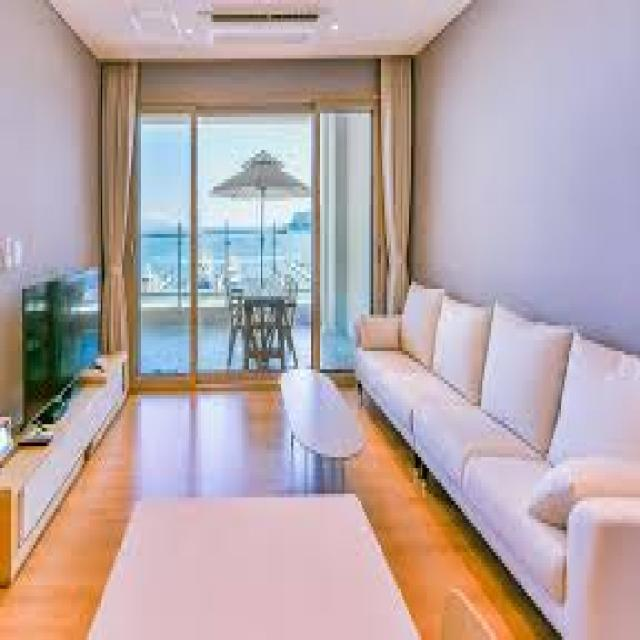Sofa: (351, 276, 639, 640)
Table: (277, 366, 370, 490)
tv: (20, 260, 104, 418)
window: (111, 71, 404, 307)
